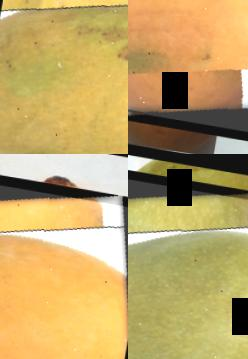PartiallyRipe: (0, 174, 128, 359), (0, 0, 128, 154)
Ripe: (128, 0, 248, 133)
Unripe: (128, 172, 248, 359)
